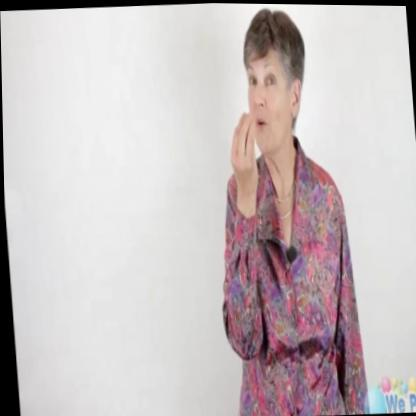Food: (215, 5, 317, 195)
